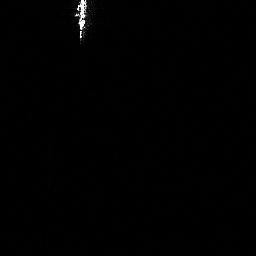ship: (72, 1, 93, 43)
